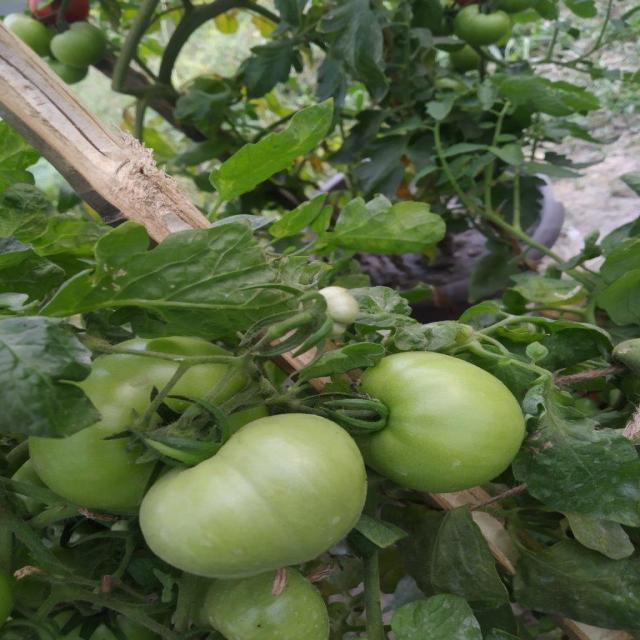Unripe: (142, 413, 368, 578), (352, 349, 526, 494)
